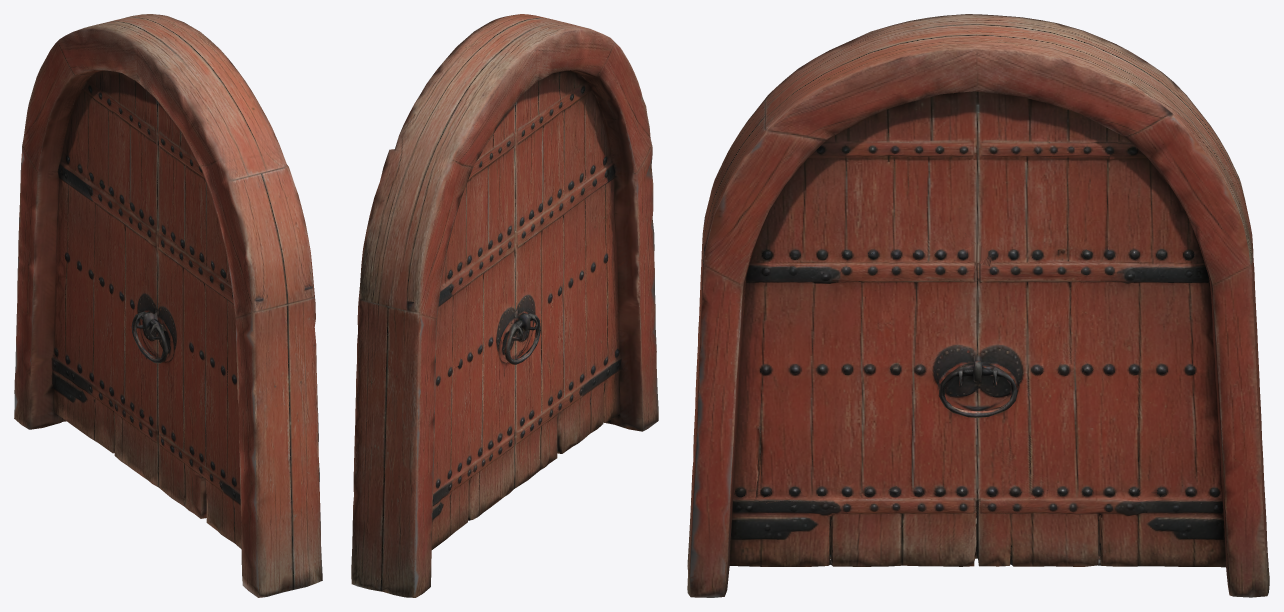
File: gatedoor.fbx
3 views of the same model, side by side, from view 1: azimuth 30°, elevation 25°; view 2: azimuth 150°, elevation 25°; view 3: azimuth 270°, elevation 25° (orthographic). The views are drawn at different scales.
Parts seen in each view (by area): view 1: texture_mapping; view 2: texture_mapping; view 3: texture_mapping.
Boxes of the visible parts, x1,y1,x2,y2 form: texture_mapping: [14, 14, 322, 597]; texture_mapping: [351, 14, 658, 597]; texture_mapping: [687, 14, 1269, 597].
Bounding box in the file's own units: 0.15 × 0.9607 × 1.
1 material, 1 textured.
